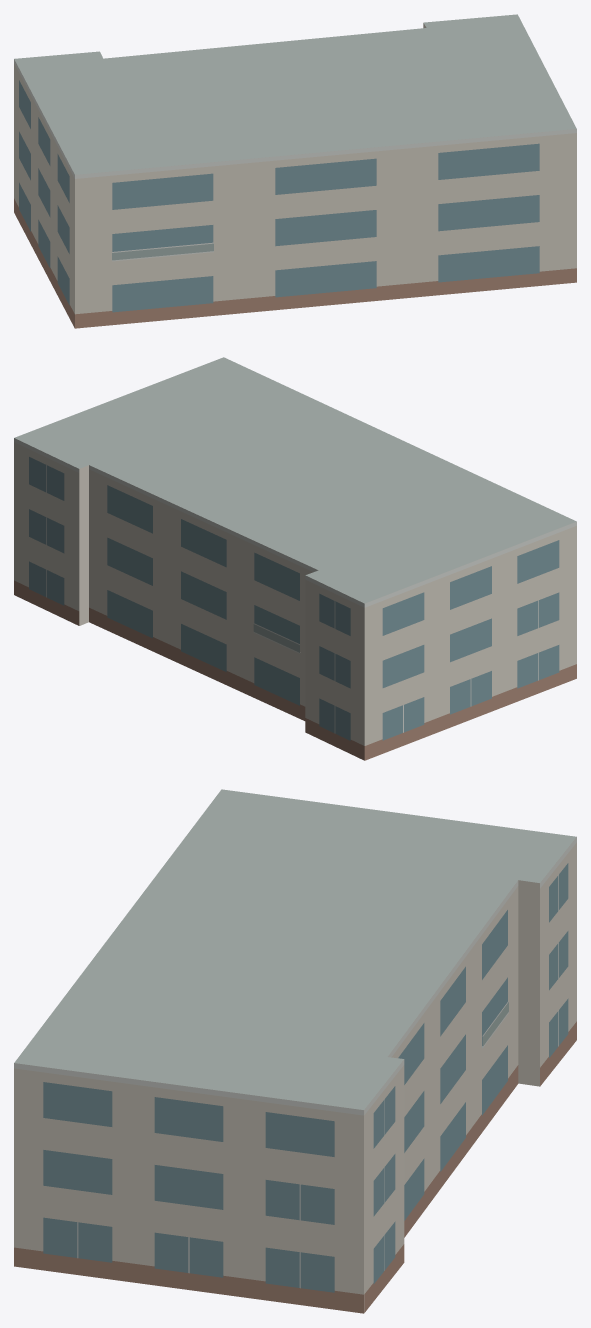
Rendered from survey-upis-33031430.glb.
3 views of the same model, one above another, from view 1: azimuth 30°, elevation 25°; view 2: azimuth 150°, elevation 25°; view 3: azimuth 270°, elevation 25° (orthographic). The views are drawn at different scales.
Parts seen in each view (by area): view 1: survey-upis-33031430.tmp; view 2: survey-upis-33031430.tmp; view 3: survey-upis-33031430.tmp.
Boxes of the visible parts, <box> form: survey-upis-33031430.tmp: <box>14,14,576,328</box>; survey-upis-33031430.tmp: <box>14,357,576,760</box>; survey-upis-33031430.tmp: <box>14,789,576,1313</box>.
Size of the model in its own units: 30.96 by 9.15 by 22.95.
